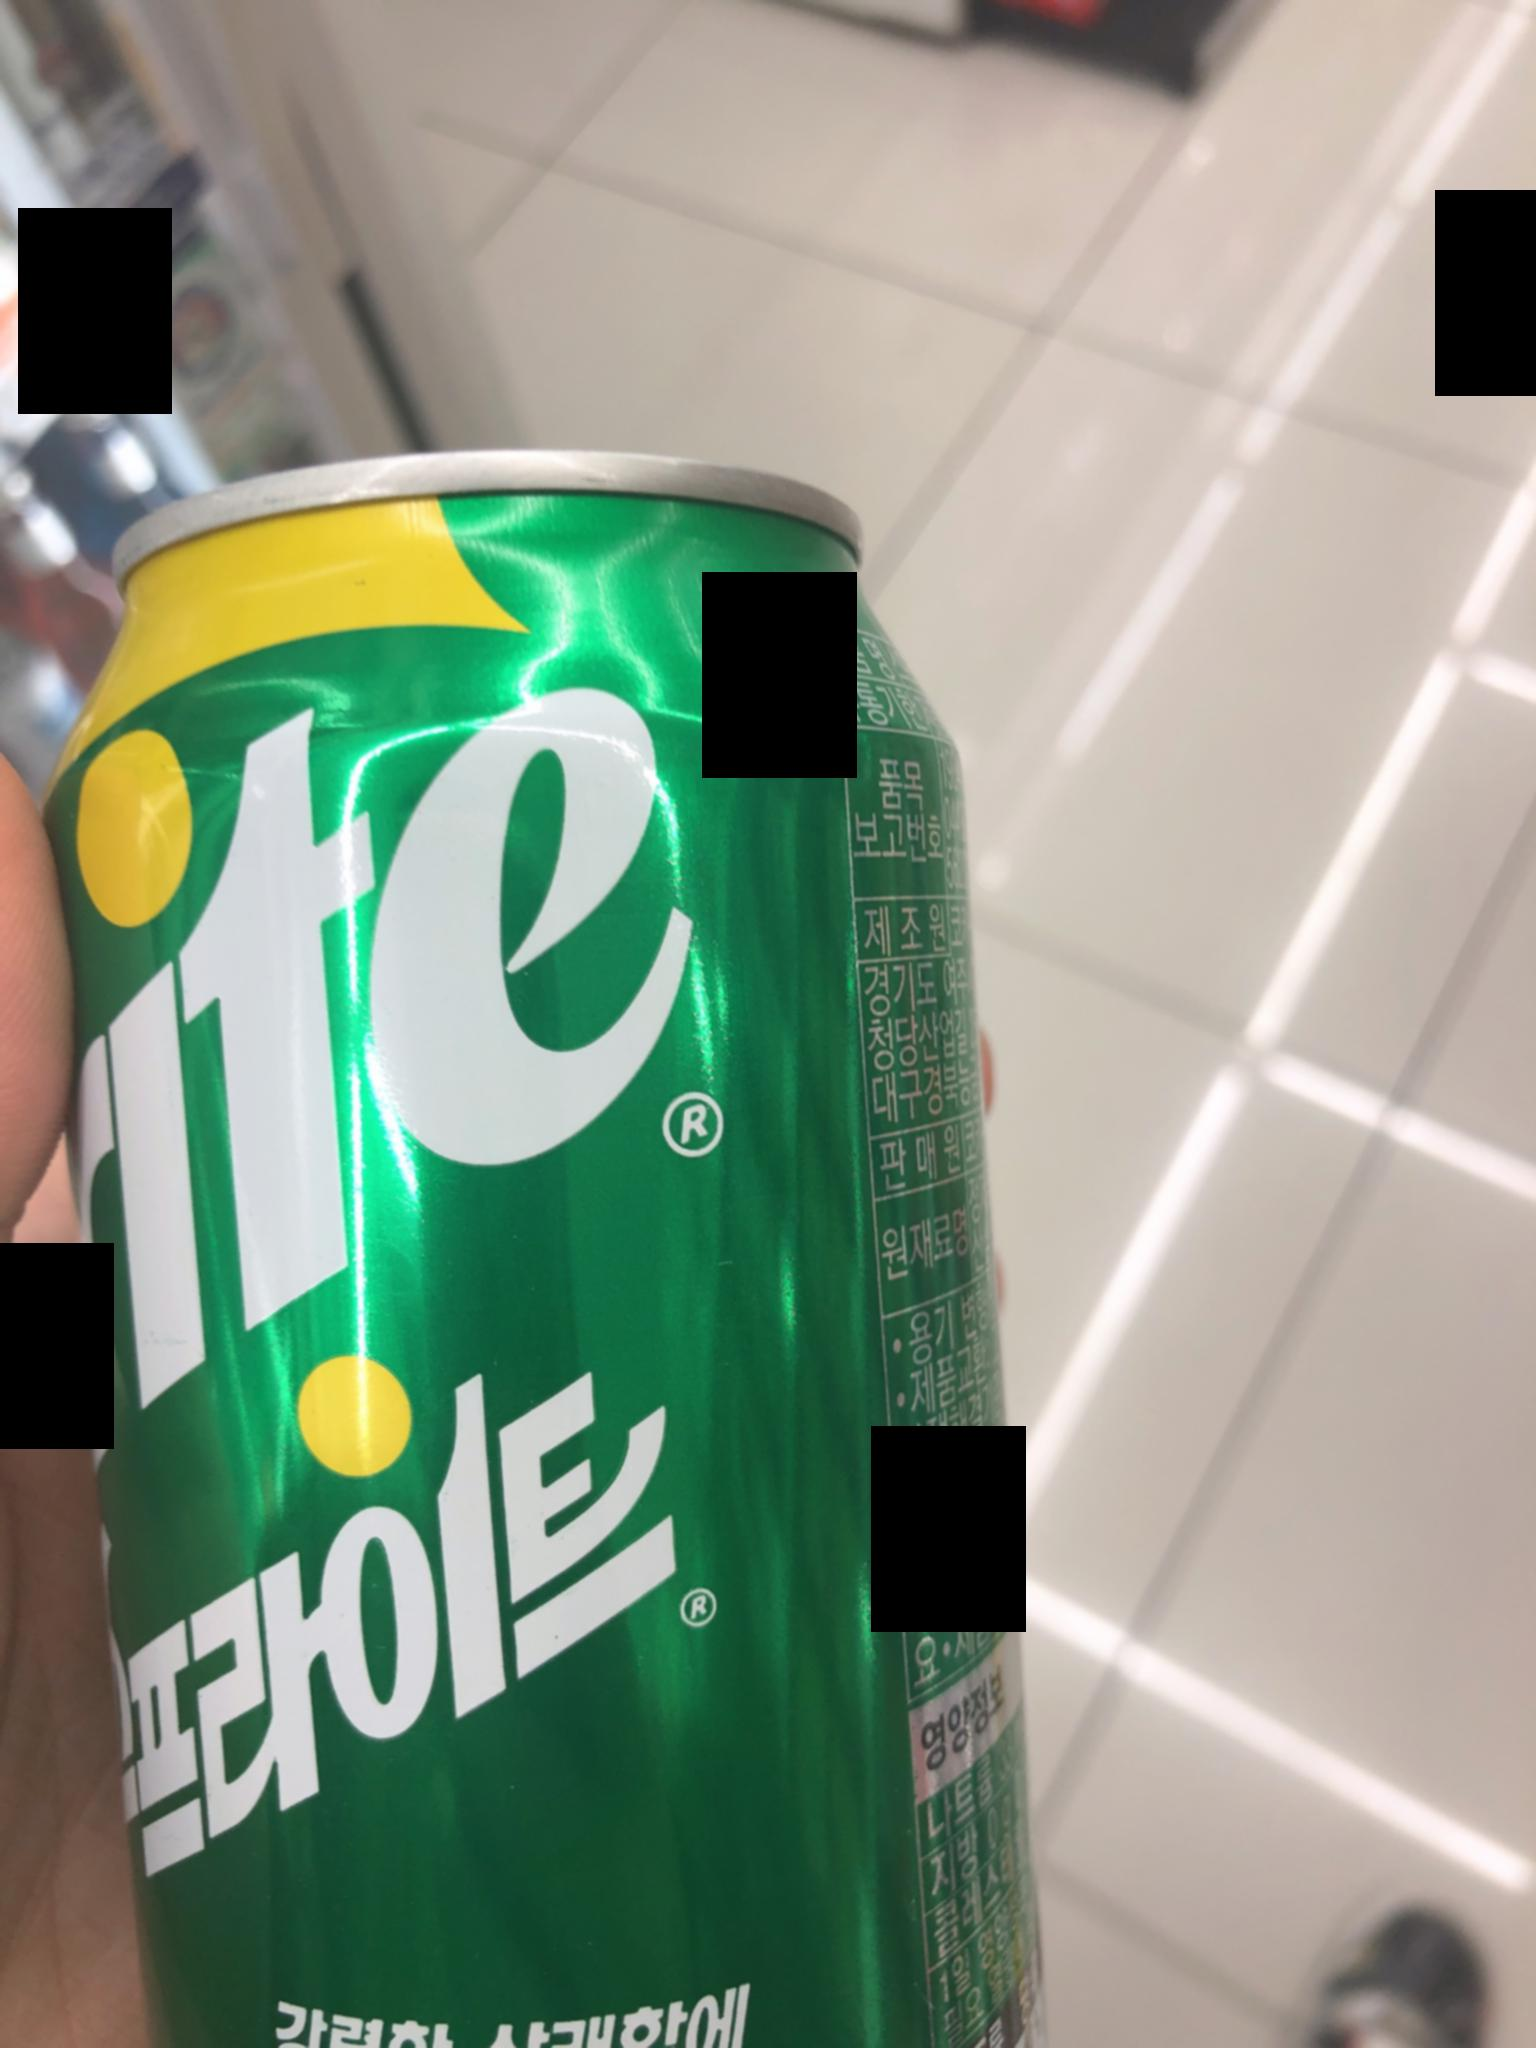sprite: (60, 413, 994, 2046)
